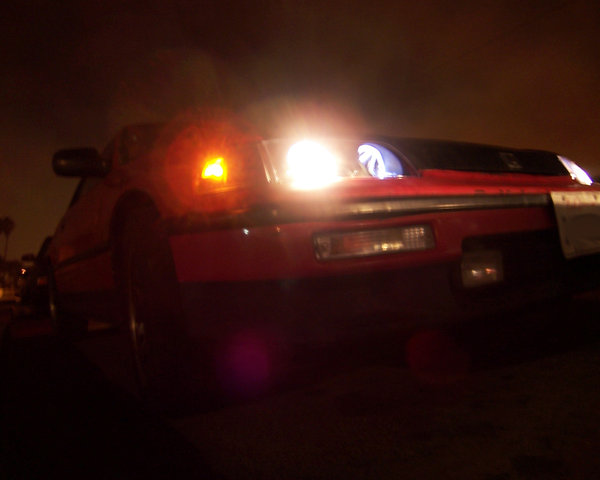car: (25, 106, 596, 390)
